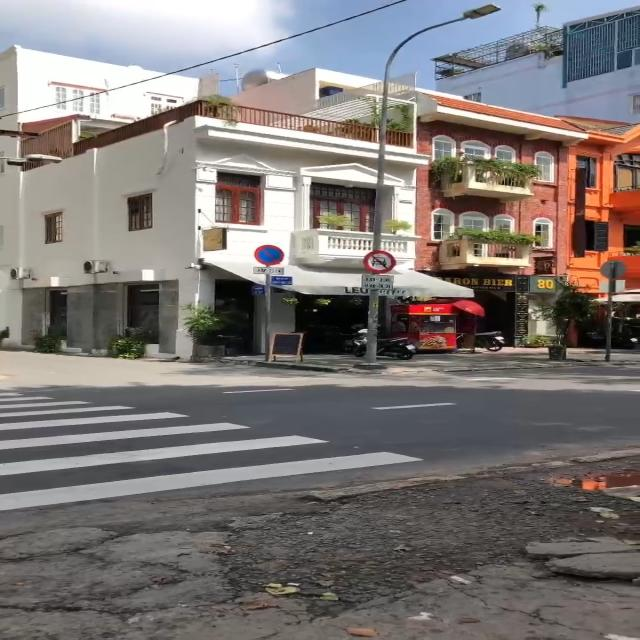Bien bao cam do xe: (252, 242, 288, 267)
Bien bao cam xe oto: (362, 247, 399, 275)
